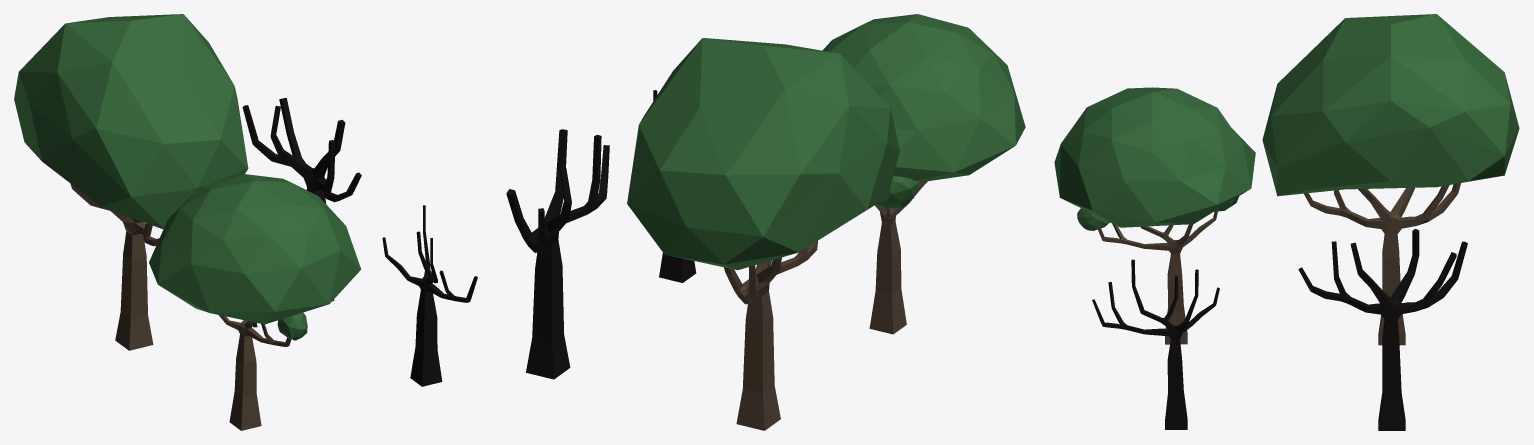
Rendered from modelo_amazonia_arvores.fbx.
3 renders of one model, left to right at view 1: azimuth 30°, elevation 25°; view 2: azimuth 150°, elevation 25°; view 3: azimuth 270°, elevation 25°, orthographic. The views are drawn at different scales.
Parts seen in each view (by area): view 1: Amazonia Folhagem 1, Amazonia Folhagem 2, Amazonia Arvore 1, Amazonia Arvore Morta 2, Amazonia Arvore Morta 1, Amazonia Arvore 2; view 2: Amazonia Folhagem 1, Amazonia Folhagem 2, Amazonia Arvore Morta 1, Amazonia Arvore 1, Amazonia Arvore 2, Amazonia Arvore Morta 2; view 3: Amazonia Folhagem 1, Amazonia Folhagem 2, Amazonia Arvore Morta 1, Amazonia Arvore 1, Amazonia Arvore Morta 2, Amazonia Arvore 2.
Boxes of the visible parts, box(x1,y1,x2,y2) form: Amazonia Folhagem 1: box(14, 14, 248, 229); Amazonia Folhagem 2: box(149, 174, 361, 340); Amazonia Arvore 1: box(70, 183, 159, 350); Amazonia Arvore Morta 2: box(382, 205, 477, 386); Amazonia Arvore Morta 1: box(242, 98, 361, 301); Amazonia Arvore 2: box(219, 315, 291, 430); Amazonia Folhagem 1: box(627, 38, 899, 270); Amazonia Folhagem 2: box(822, 14, 1025, 208); Amazonia Arvore Morta 1: box(506, 129, 609, 379); Amazonia Arvore 1: box(724, 241, 817, 430); Amazonia Arvore 2: box(869, 181, 927, 334); Amazonia Arvore Morta 2: box(653, 90, 696, 282); Amazonia Folhagem 1: box(1262, 14, 1519, 196); Amazonia Folhagem 2: box(1054, 87, 1255, 230); Amazonia Arvore Morta 1: box(1298, 228, 1467, 430); Amazonia Arvore 1: box(1304, 183, 1460, 345); Amazonia Arvore Morta 2: box(1092, 259, 1219, 429); Amazonia Arvore 2: box(1098, 211, 1217, 344).
Bounding box in the file's own units: 603 × 639 × 860.
